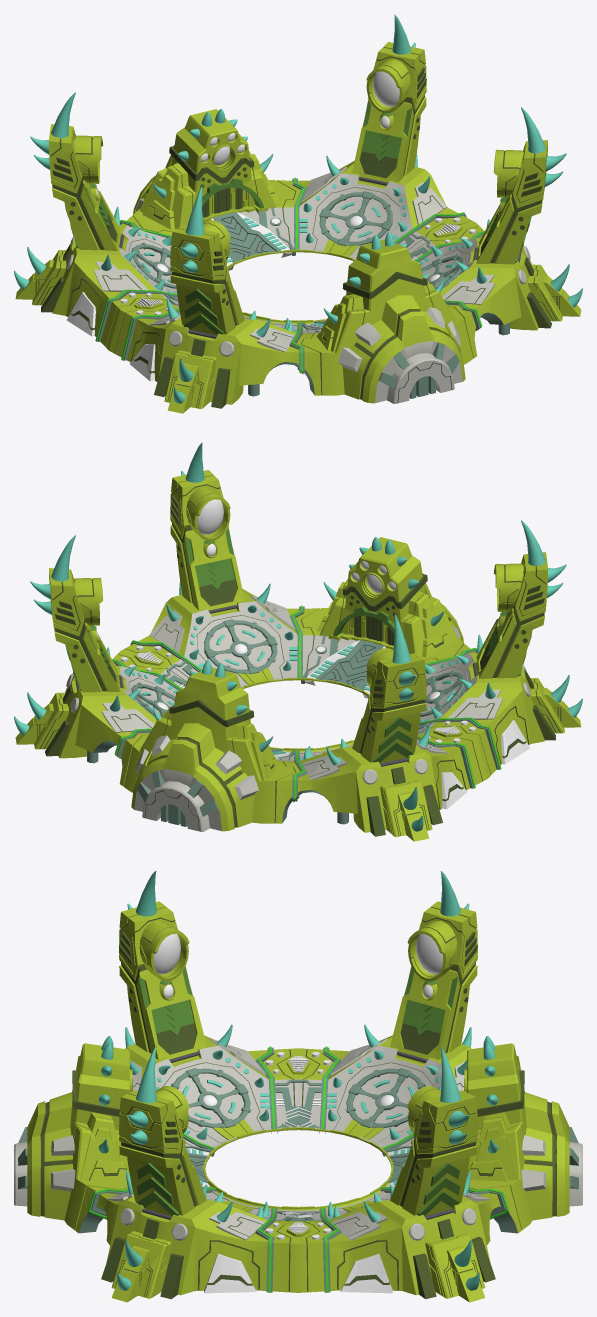
Rendered from arena_collisionnebula.fbx.
The picture shows the model from 3 angles, top to bottom: view 1: azimuth 30°, elevation 25°; view 2: azimuth 150°, elevation 25°; view 3: azimuth 270°, elevation 25°; orthographic projection. The views are drawn at different scales.
Parts seen in each view (by area): view 1: Collision_Nebula_Arena; view 2: Collision_Nebula_Arena; view 3: Collision_Nebula_Arena.
Boxes of the visible parts, x1,y1,x2,y2 form: Collision_Nebula_Arena: (14, 14, 582, 413); Collision_Nebula_Arena: (14, 442, 582, 841); Collision_Nebula_Arena: (14, 871, 582, 1302).
Size of the model in its own units: 53.99 by 25.55 by 57.1.
Materials: 1 (1 with a texture image).
